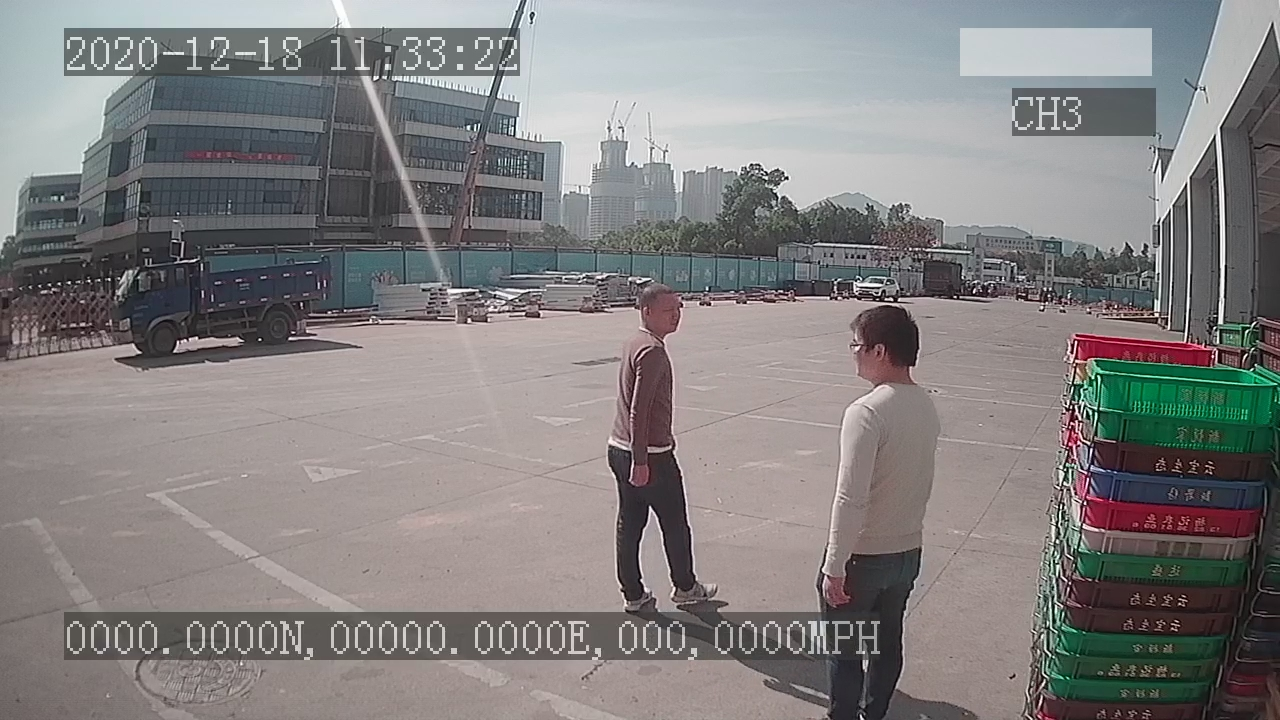person: (598, 279, 719, 611)
